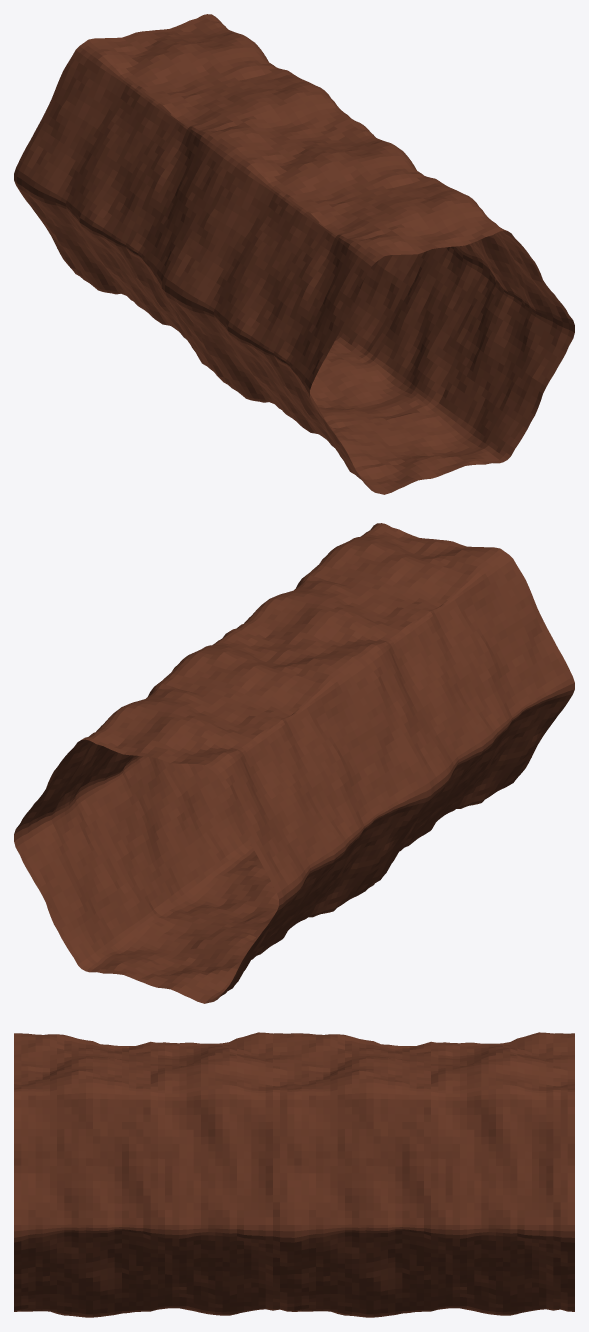
The model's file is Cave1Flat.fbx.
3 renders of one model, top to bottom at view 1: azimuth 30°, elevation 25°; view 2: azimuth 150°, elevation 25°; view 3: azimuth 270°, elevation 25°, orthographic. The views are drawn at different scales.
Parts seen in each view (by area): view 1: Cylinder; view 2: Cylinder; view 3: Cylinder.
Boxes of the visible parts, x1,y1,x2,y2 form: Cylinder: (14, 14, 574, 494); Cylinder: (14, 523, 574, 1003); Cylinder: (14, 1032, 574, 1317).
Bounding box in the file's own units: 207 × 188 × 400.
